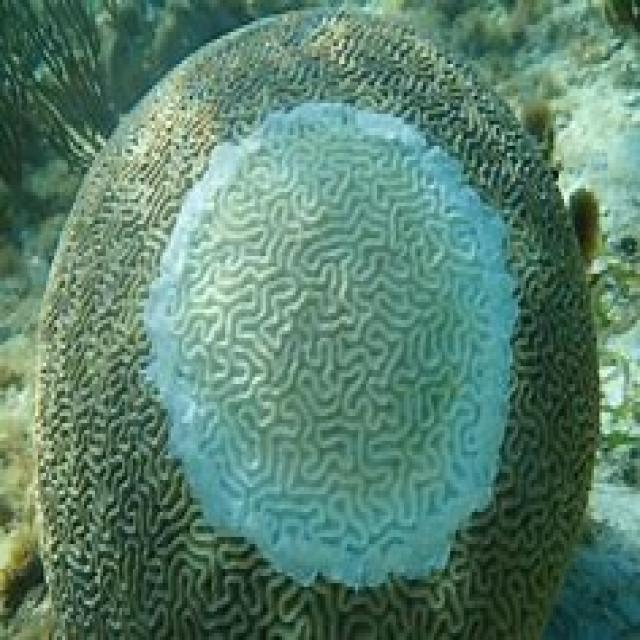Coral: (36, 5, 598, 640)
